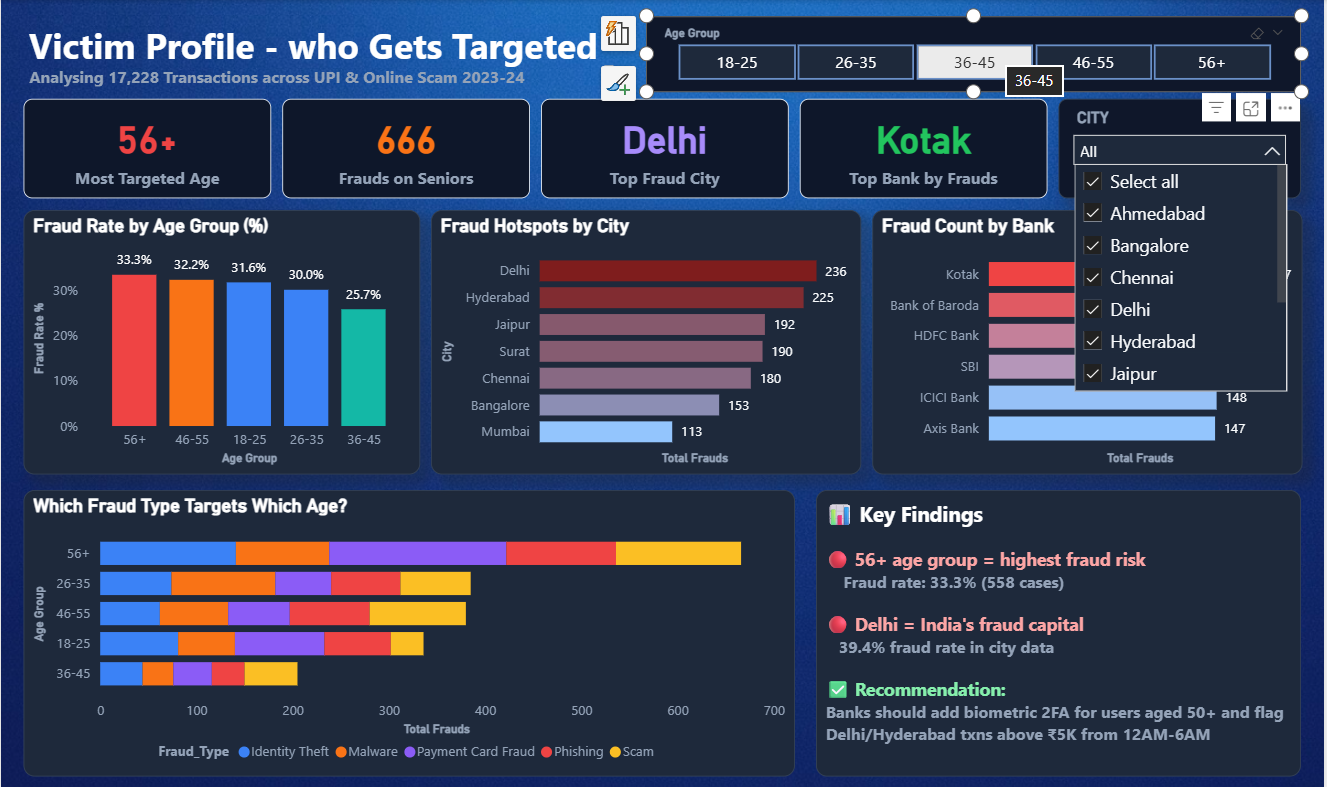

This screenshot's page, from the dashboard's own definition file:
{"tool":"powerbi","page":{"name":"Victim Profile ","canvas":[1200,720],"ordinal":1},"visuals":[{"type":"barChart","title":"Which Fraud Type Targets Which Age?","fields":{"Category":["Master_Fraud_Table.Age_Group"],"Series":["Master_Fraud_Table.Fraud_Type"],"Y":["Master_Fraud_Table.Total_Frauds"]},"box":[20,445,700,260],"z":0},{"type":"textbox","box":[20,15,677.2,59.6],"z":1000},{"type":"textbox","box":[20,55,540.2,29.4],"z":2000},{"type":"card","fields":{"Values":["_Measures.Most Targeted Age"]},"box":[20,90,225,90.4],"z":3000},{"type":"card","fields":{"Values":["_Measures.Frauds on Seniors"]},"box":[255,90,225,90.4],"z":4000},{"type":"card","fields":{"Values":["_Measures.Top Fraud City"]},"box":[490,90,225,90],"z":5000},{"type":"card","title":"hello","fields":{"Values":["_Measures.Top Bank by Frauds"]},"box":[725,90,225,90.4],"z":6000},{"type":"textbox","box":[740,445,440,260],"z":8000},{"type":"clusteredColumnChart","title":"Fraud Rate by Age Group (%)","fields":{"Category":["Master_Fraud_Table.Age_Group"],"Y":["Master_Fraud_Table.Fraud Rate %"]},"box":[20,190,360,240],"z":9000},{"type":"clusteredBarChart","title":"Fraud Hotspots by City","fields":{"Category":["Master_Fraud_Table.City"],"Y":["Master_Fraud_Table.Total_Frauds"]},"box":[390,190,390,240],"z":10000},{"type":"clusteredBarChart","title":"Fraud Count by Bank","fields":{"Category":["Master_Fraud_Table.Bank_Name"],"Y":["Master_Fraud_Table.Total_Frauds"]},"box":[790,190,390,240],"z":11000},{"type":"slicer","fields":{"Values":["Master_Fraud_Table.Age_Group"]},"box":[585.3,14.7,594.3,69.2],"z":12000},{"type":"slicer","fields":{"Values":["Master_Fraud_Table.City"]},"box":[960,90,220,90],"z":13000}]}

Visuals, with their boxes on the page's 1200x720 design canvas (x1, y1, x2, y2). These are canvas units, not pixel positions in the 1327x787 screenshot, which may show the page scaled, cropped or inside an application window:
"Which Fraud Type Targets Which Age?" barChart: [20, 445, 720, 705]
textbox: [20, 15, 697, 75]
textbox: [20, 55, 560, 84]
card - _Measures.Most Targeted Age: [20, 90, 245, 180]
card - _Measures.Frauds on Seniors: [255, 90, 480, 180]
card - _Measures.Top Fraud City: [490, 90, 715, 180]
"hello" card: [725, 90, 950, 180]
textbox: [740, 445, 1180, 705]
"Fraud Rate by Age Group (%)" clusteredColumnChart: [20, 190, 380, 430]
"Fraud Hotspots by City" clusteredBarChart: [390, 190, 780, 430]
"Fraud Count by Bank" clusteredBarChart: [790, 190, 1180, 430]
slicer - Master_Fraud_Table.Age_Group: [585, 15, 1180, 84]
slicer - Master_Fraud_Table.City: [960, 90, 1180, 180]
